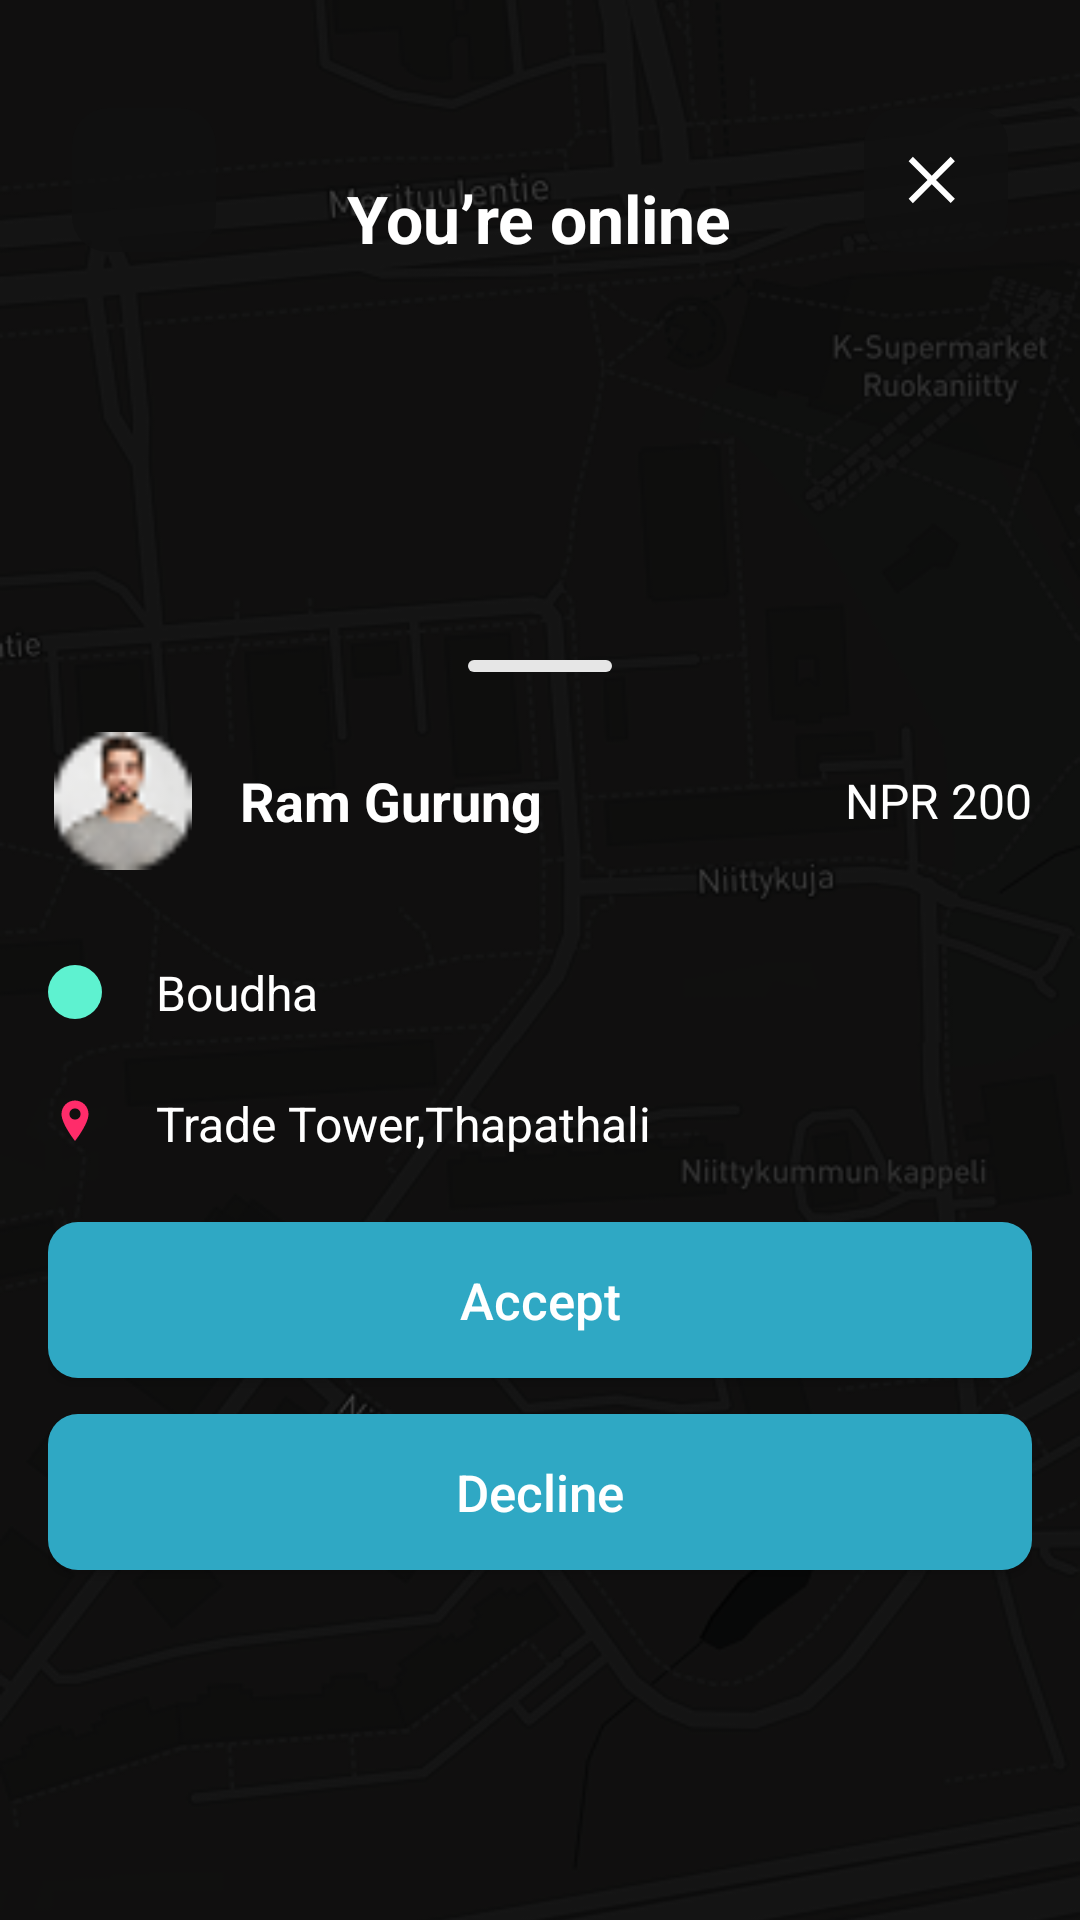

Screen size 1080px×1920px. Icon name, then its box in pixels as [left=x1, top=y1, right=x2, bottom=y2]:
Close: [left=908, top=157, right=955, bottom=203]
drop pin: [left=61, top=1100, right=89, bottom=1141]
Rider profile photo: [left=54, top=732, right=192, bottom=870]
